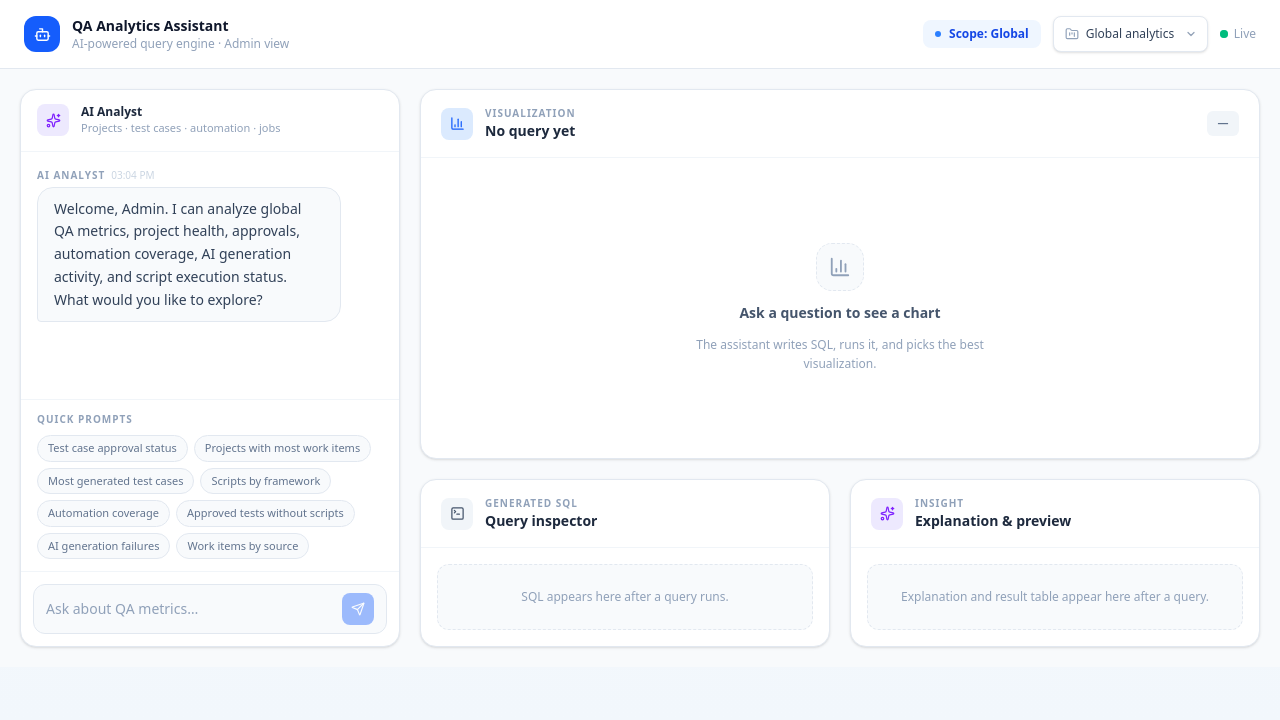
Test: AdminAnalyticsAssistantPage › submits a quick prompt
The image size is (1280, 720).
Step 1. Click the button "Approved tests without scripts" → (265, 513), box [176,500,355,526]
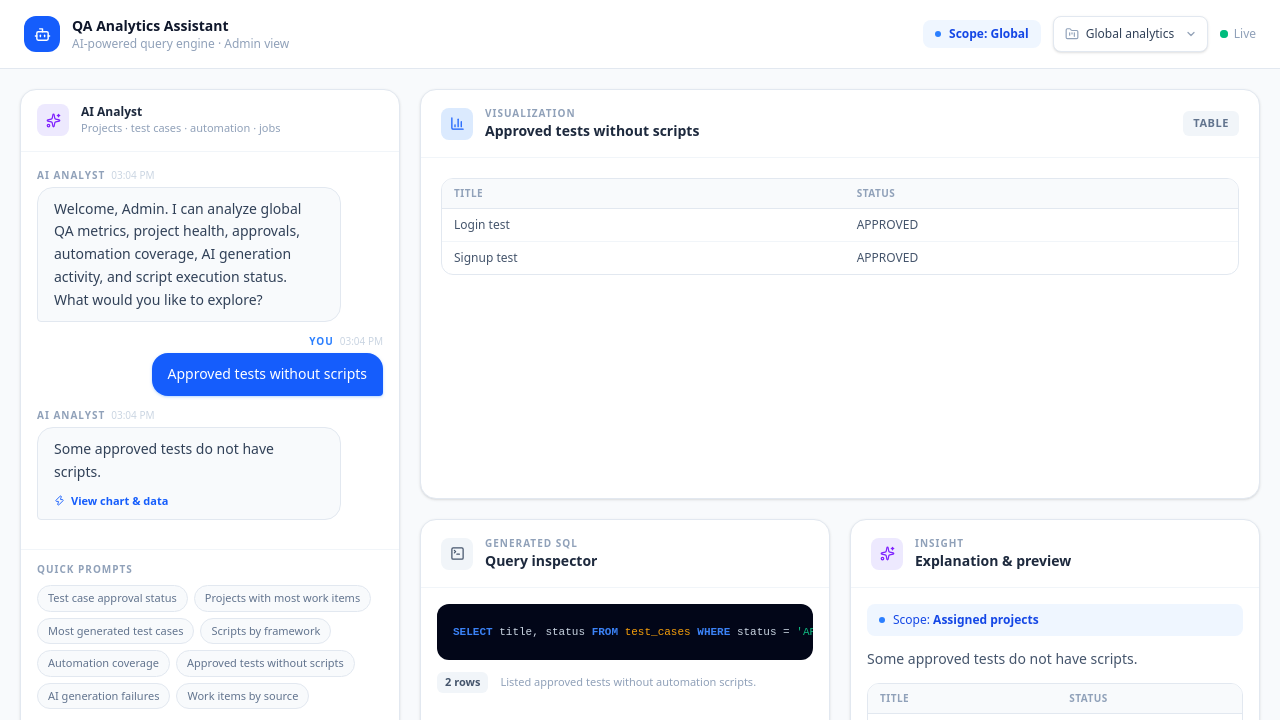
expect the 1st text "Some approved tests do not have scripts." is shown: met, box [54,439,274,481]
expect the 1st text "Login test" is shown: met, box [442,209,845,242]
expect the text "Signup test" is shown: met, box [442,242,845,274]
